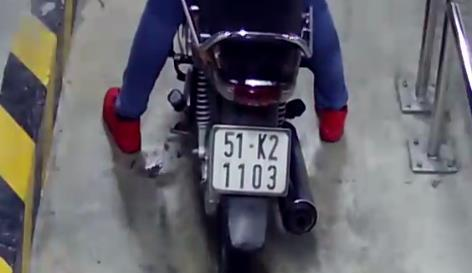lisence: (207, 124, 290, 197)
